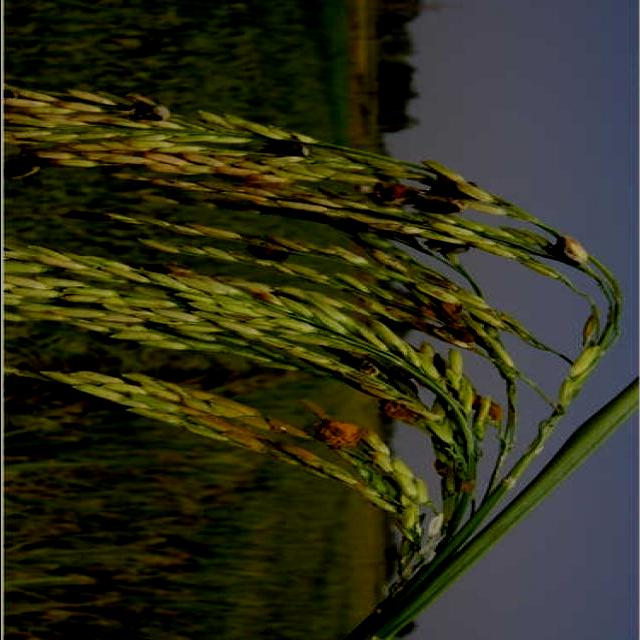Bacterial_Leaf_Blight: (378, 184, 473, 214), (416, 301, 474, 344), (313, 420, 364, 450), (378, 399, 418, 427), (4, 155, 46, 180), (558, 234, 588, 264), (246, 243, 290, 262), (472, 396, 504, 422), (131, 104, 170, 122), (270, 138, 303, 159), (378, 184, 406, 202)
